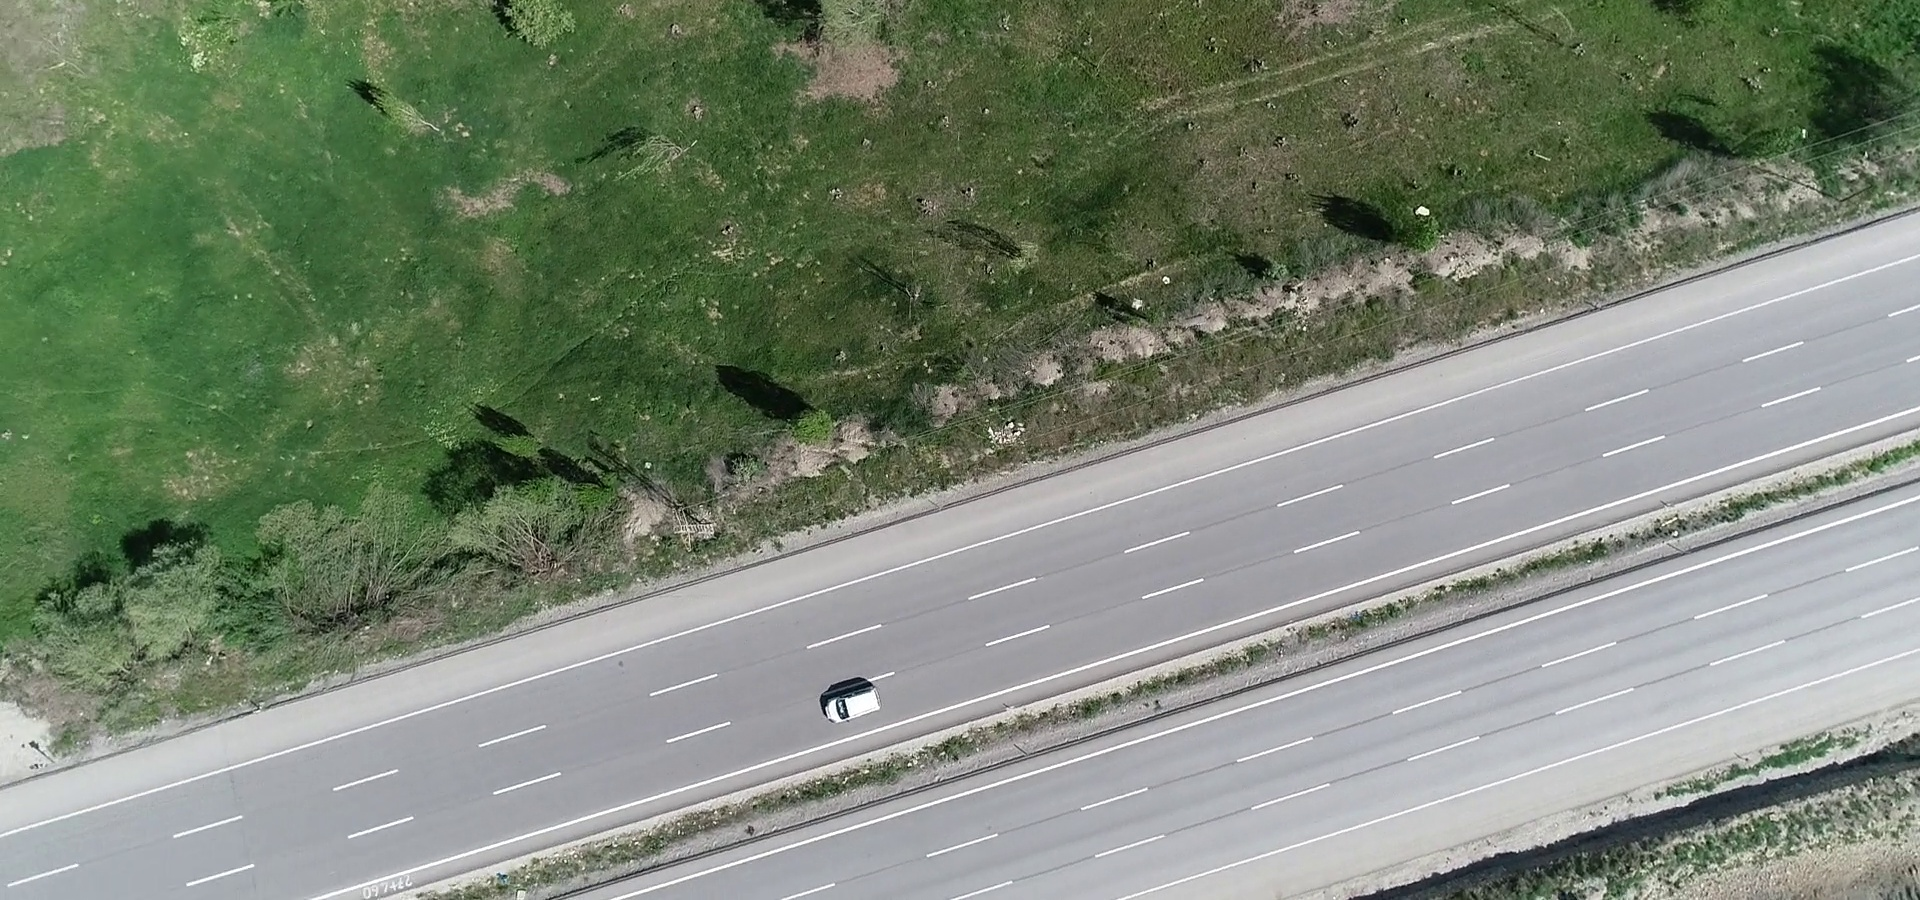arac: (817, 670, 885, 729)
